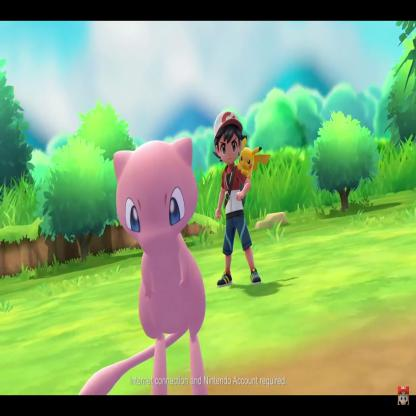Mew: (53, 1, 257, 416)
